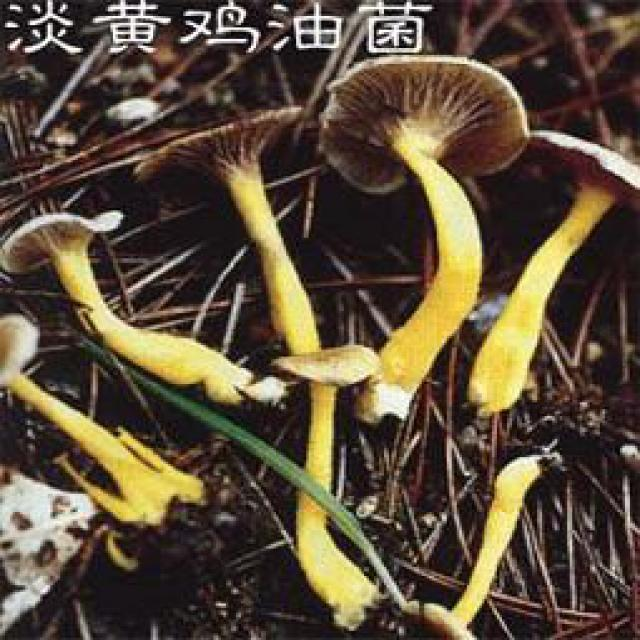Cantharellus cibarius: (324, 53, 525, 422), (7, 208, 256, 403), (477, 130, 640, 411), (137, 106, 320, 350), (0, 314, 200, 518), (272, 342, 381, 626)
